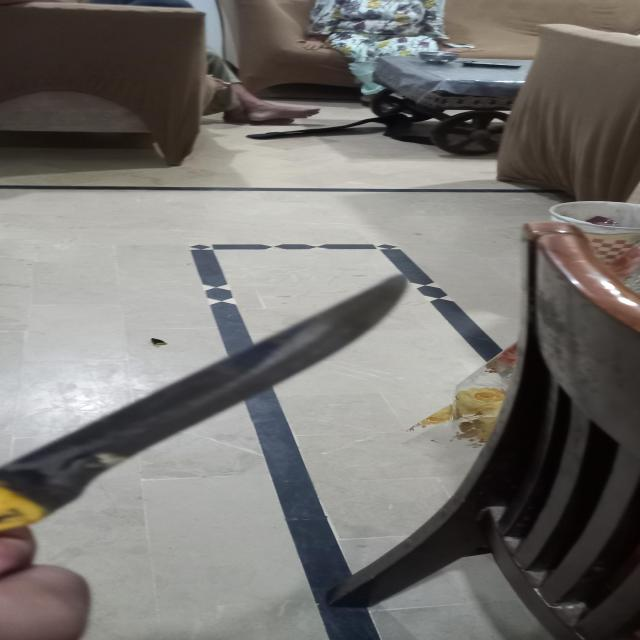Knife: (0, 273, 410, 537)
Person: (0, 500, 93, 640)
